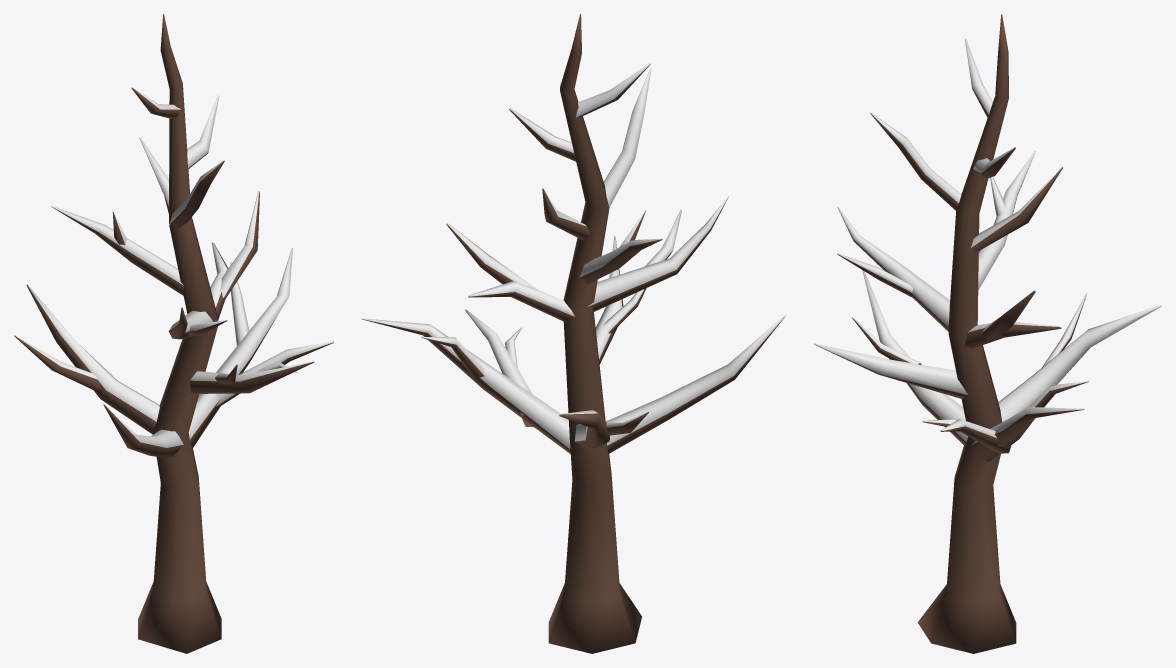
Rendered from TreeSnow.fbx.
3 views of the same model, side by side, from view 1: azimuth 30°, elevation 25°; view 2: azimuth 150°, elevation 25°; view 3: azimuth 270°, elevation 25° (orthographic). The views are drawn at different scales.
Visible parts, largest first — view 1: Tree Shadow; view 2: Tree Shadow; view 3: Tree Shadow.
Boxes of the visible parts, x1,y1,x2,y2 form: Tree Shadow: (14, 14, 333, 653); Tree Shadow: (362, 14, 785, 653); Tree Shadow: (814, 14, 1161, 653).
Size of the model in its own units: 216 by 419 by 214.
